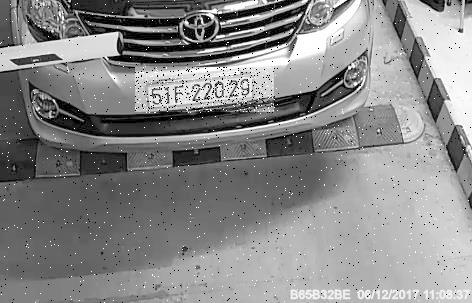License-plate: (137, 69, 277, 115)
